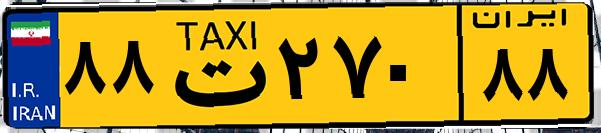0: (385, 28, 445, 110)
2: (270, 28, 330, 110)
7: (330, 28, 385, 110)
8: (57, 26, 110, 100), (475, 38, 525, 113), (525, 38, 570, 115), (110, 28, 158, 98)
ت: (158, 12, 270, 120)
